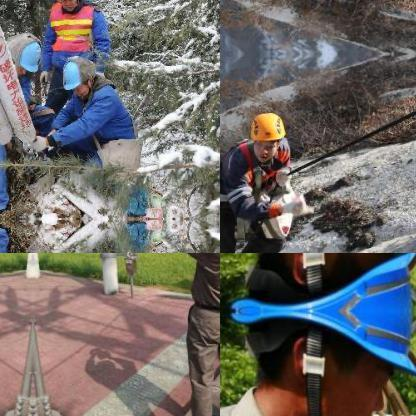Helmet: (225, 310, 415, 415), (224, 253, 415, 310), (244, 106, 288, 156), (0, 30, 41, 74), (61, 54, 94, 96), (53, 0, 83, 8)
